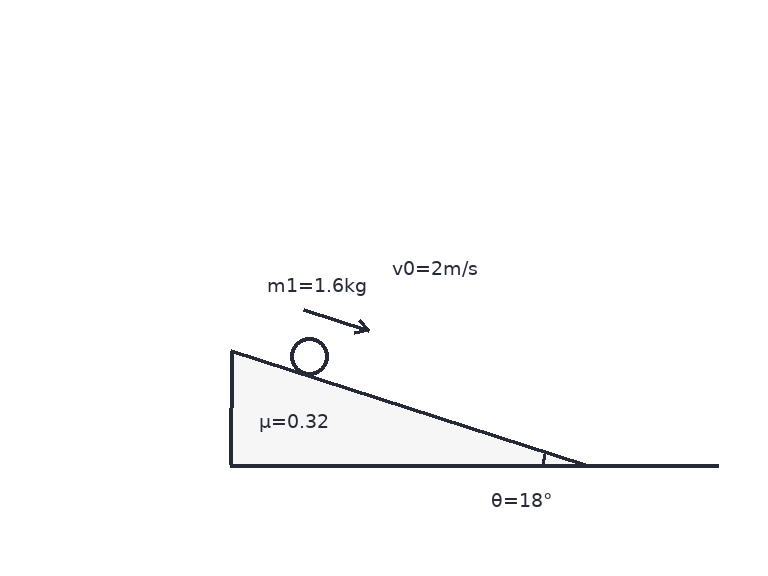ball: (288, 335, 330, 377)
ramp: (228, 348, 585, 467)
